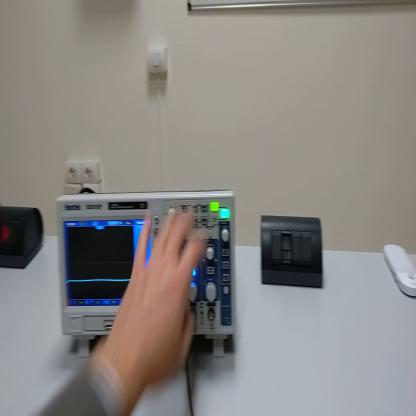hand: (113, 203, 205, 384)
oscilloscope: (51, 186, 238, 356)
socket: (1, 206, 44, 274)
